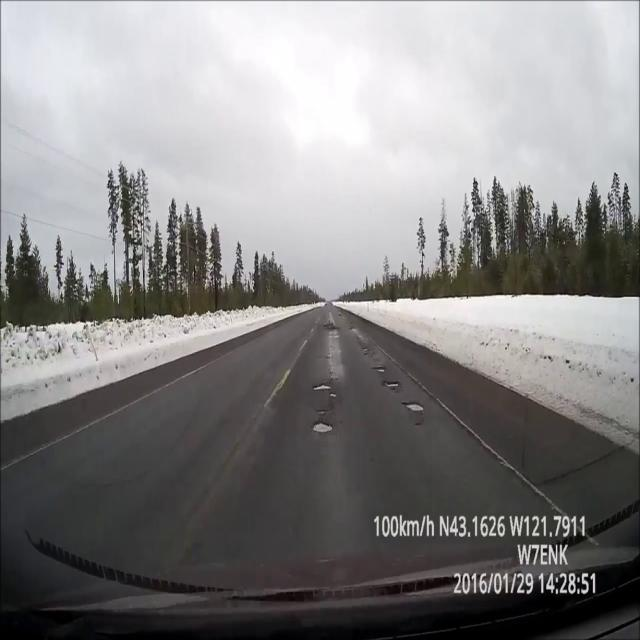Pothole: (404, 401, 424, 414), (314, 421, 334, 433), (313, 382, 332, 392), (372, 365, 388, 374), (324, 322, 339, 331), (384, 381, 402, 388), (339, 313, 342, 317)
